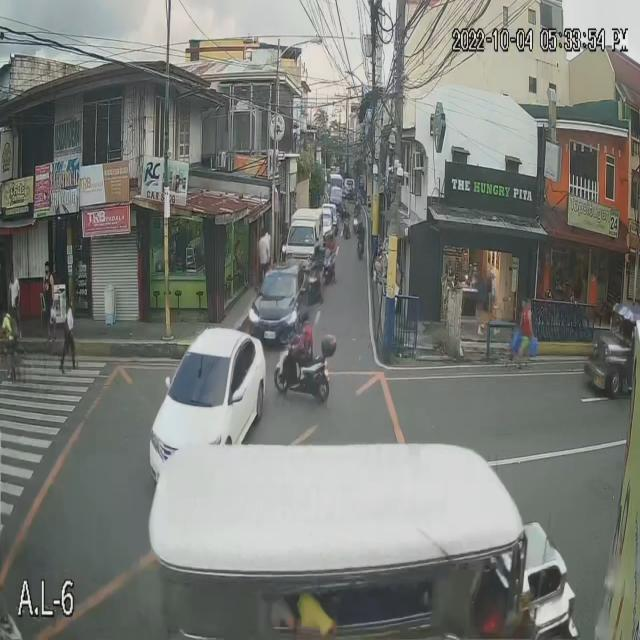full: (297, 307, 309, 324)
